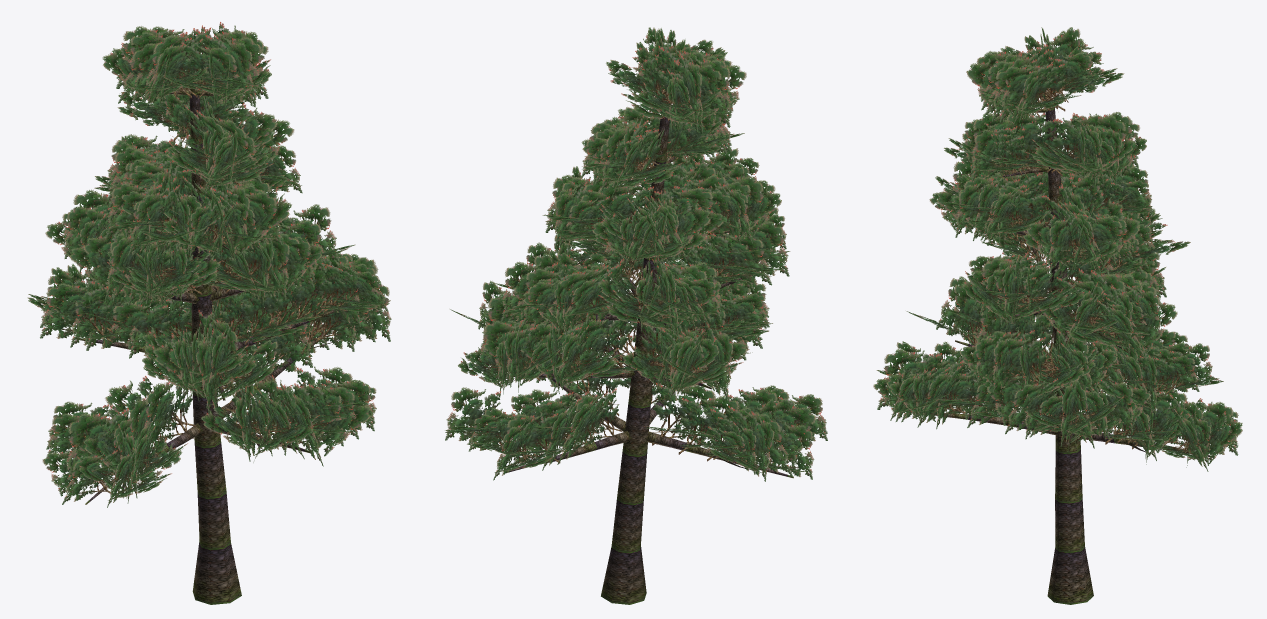
The model's file is grave_tree_lod0.glb.
The picture shows the model from 3 angles, left to right: view 1: azimuth 30°, elevation 25°; view 2: azimuth 150°, elevation 25°; view 3: azimuth 270°, elevation 25°; orthographic projection. The views are drawn at different scales.
Parts seen in each view (by area): view 1: grave_tree_lod0; view 2: grave_tree_lod0; view 3: grave_tree_lod0.
Part boxes in pixels (x1=…): grave_tree_lod0: x1=27, y1=22, x2=391, y2=604; grave_tree_lod0: x1=445, y1=27, x2=827, y2=604; grave_tree_lod0: x1=873, y1=27, x2=1242, y2=604.
Bounding box in the file's own units: 29.38 × 45.45 × 29.92.
2 materials, 2 textured.
